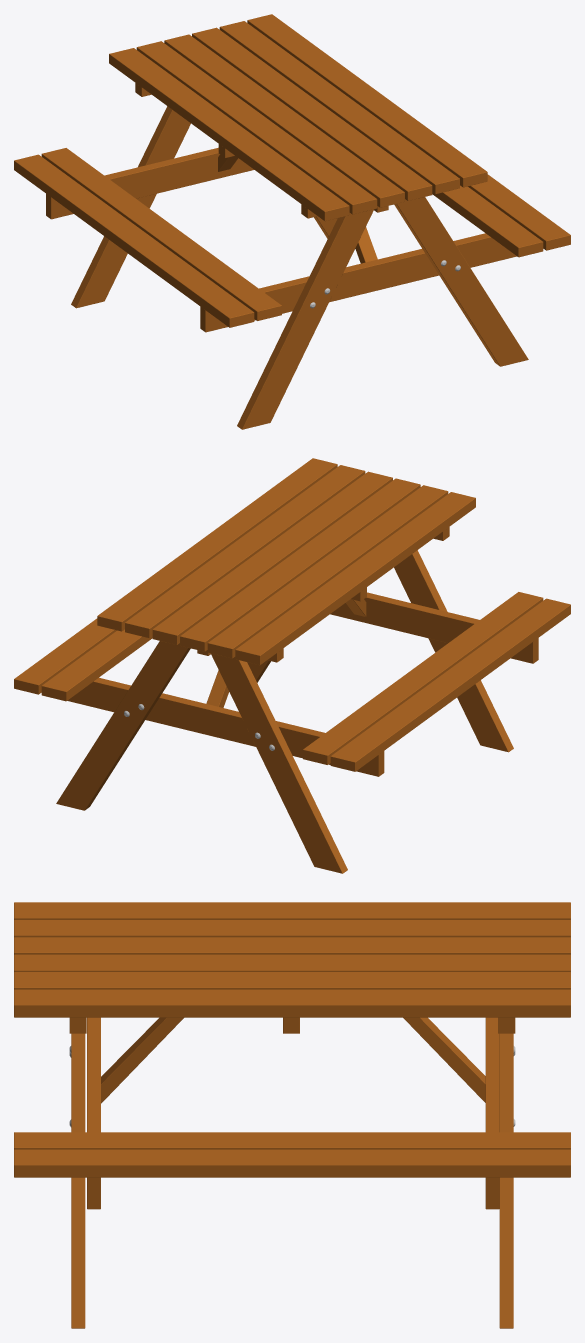
Rendered from table.obj.
3 renders of one model, top to bottom at view 1: azimuth 30°, elevation 25°; view 2: azimuth 150°, elevation 25°; view 3: azimuth 270°, elevation 25°, orthographic. The views are drawn at different scales.
Parts seen in each view (by area): view 1: Cube.042; view 2: Cube.042; view 3: Cube.042.
Boxes of the visible parts, x1,y1,x2,y2 form: Cube.042: [14, 14, 570, 429]; Cube.042: [14, 458, 570, 873]; Cube.042: [14, 902, 570, 1328].
Bounding box in the file's own units: 11.86 × 7.29 × 12.97.
